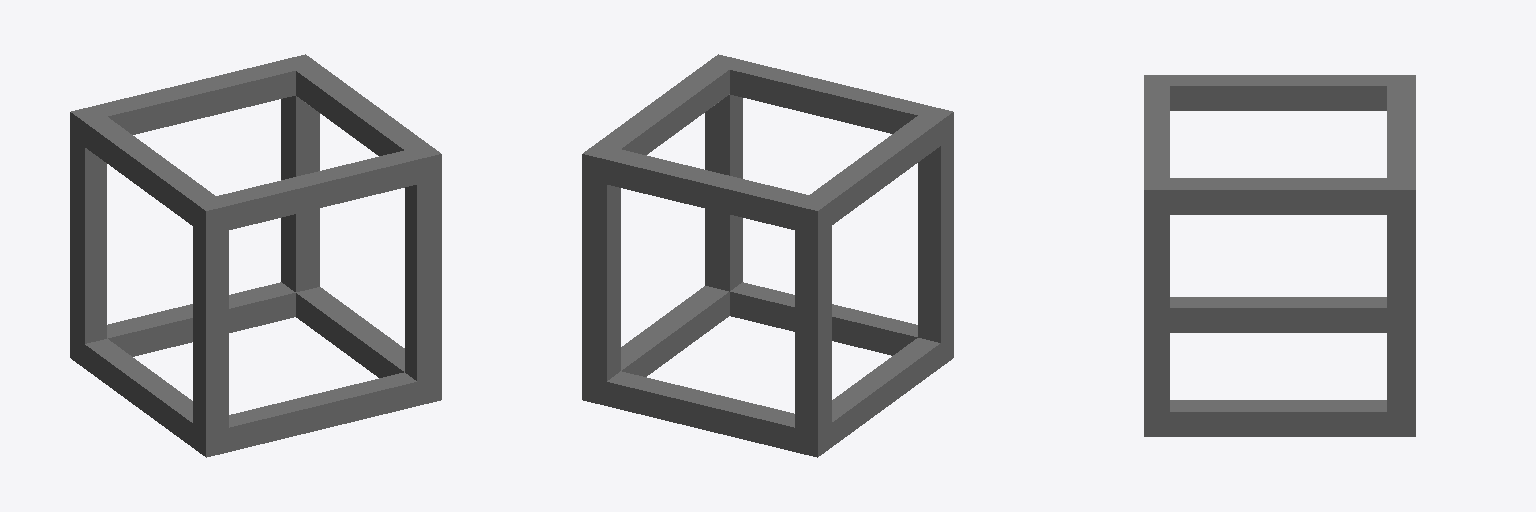
Rendered from cage_one_face.obj.
3 renders of one model, left to right at view 1: azimuth 30°, elevation 25°; view 2: azimuth 150°, elevation 25°; view 3: azimuth 270°, elevation 25°, orthographic.
Parts seen in each view (by area): view 1: Mesh1 Model; view 2: Mesh1 Model; view 3: Mesh1 Model.
Part boxes in pixels (bbox=[...]): Mesh1 Model: bbox=[70, 54, 441, 457]; Mesh1 Model: bbox=[582, 54, 953, 457]; Mesh1 Model: bbox=[1144, 75, 1415, 436].
Size of the model in its own units: 1000 by 1000 by 1000.